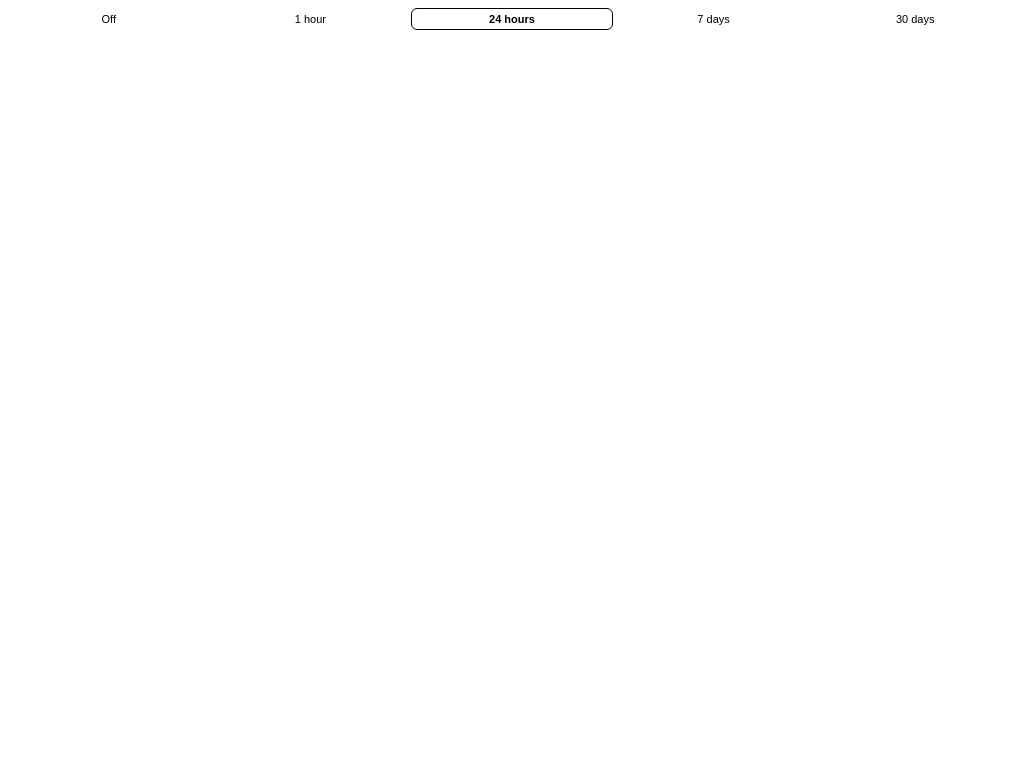
Test: MessageExpirationEditor › requires an explicit refresh after a conflict instead of reusing the confirmation
This screenshot has width=1024, height=768.
Click the button "1 hour". click: x=310, y=19
box: [210,8,411,30]
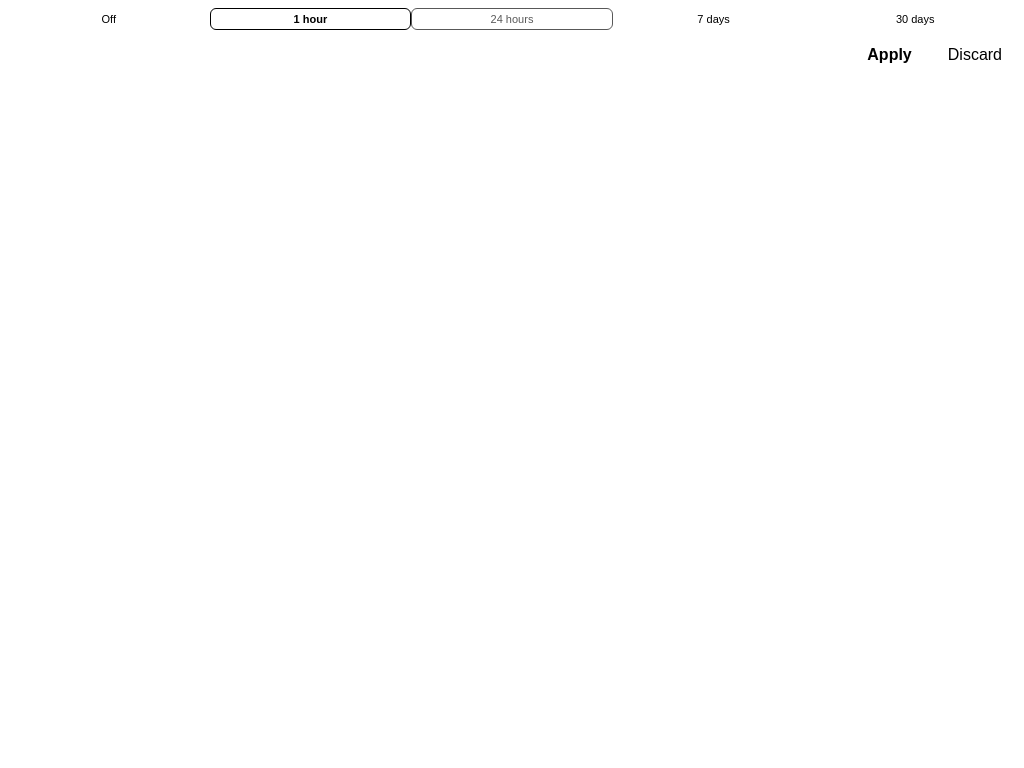
Click the button "Apply". click: x=890, y=55
box: [853,40,926,70]
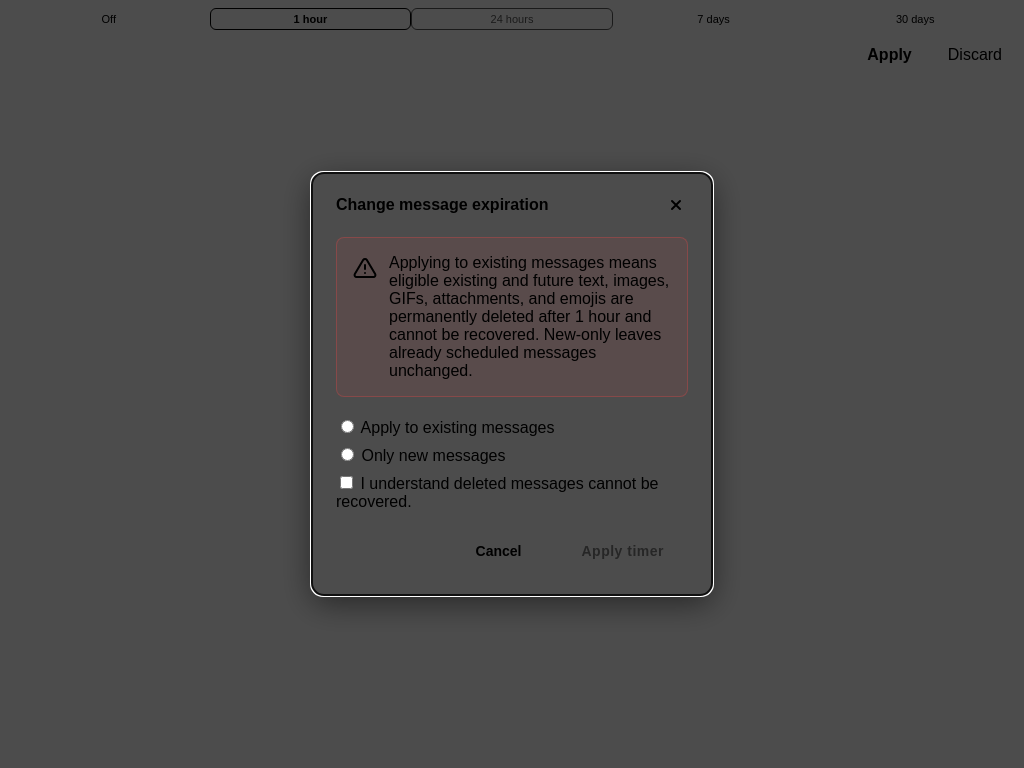
Click the radio button labelled "Only new messages". click: x=348, y=454
box: [341,448,354,461]
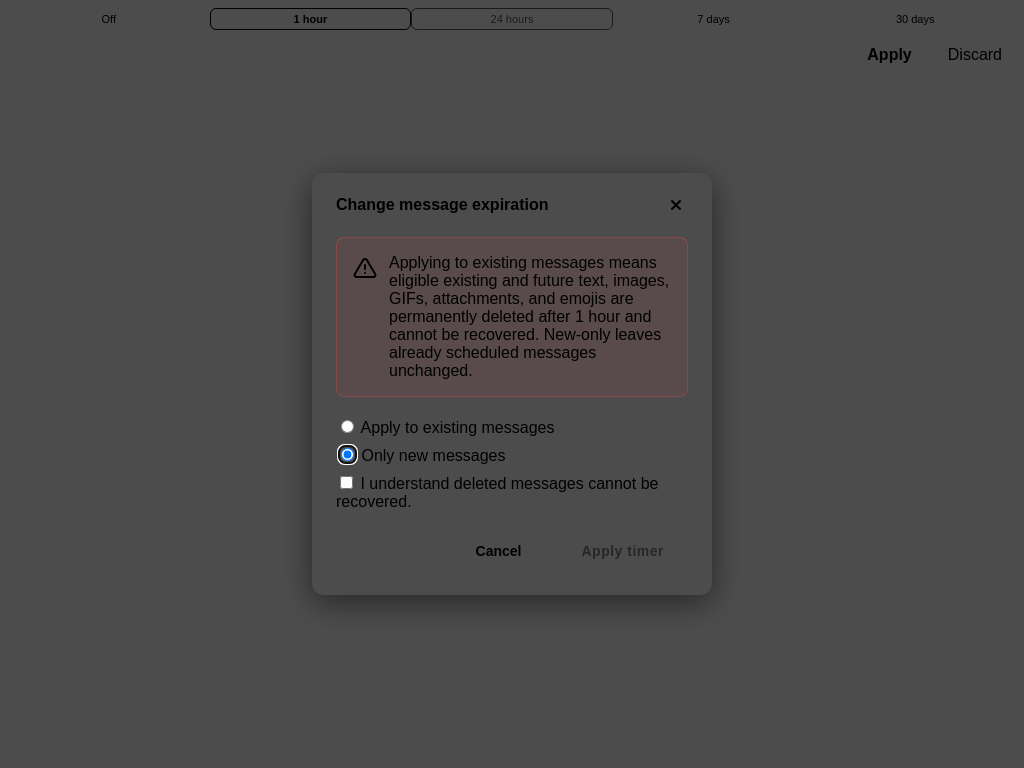
Click the checkbox labelled "I understand deleted messages cannot be recovered.". click: x=346, y=482
box: [340,476,353,489]
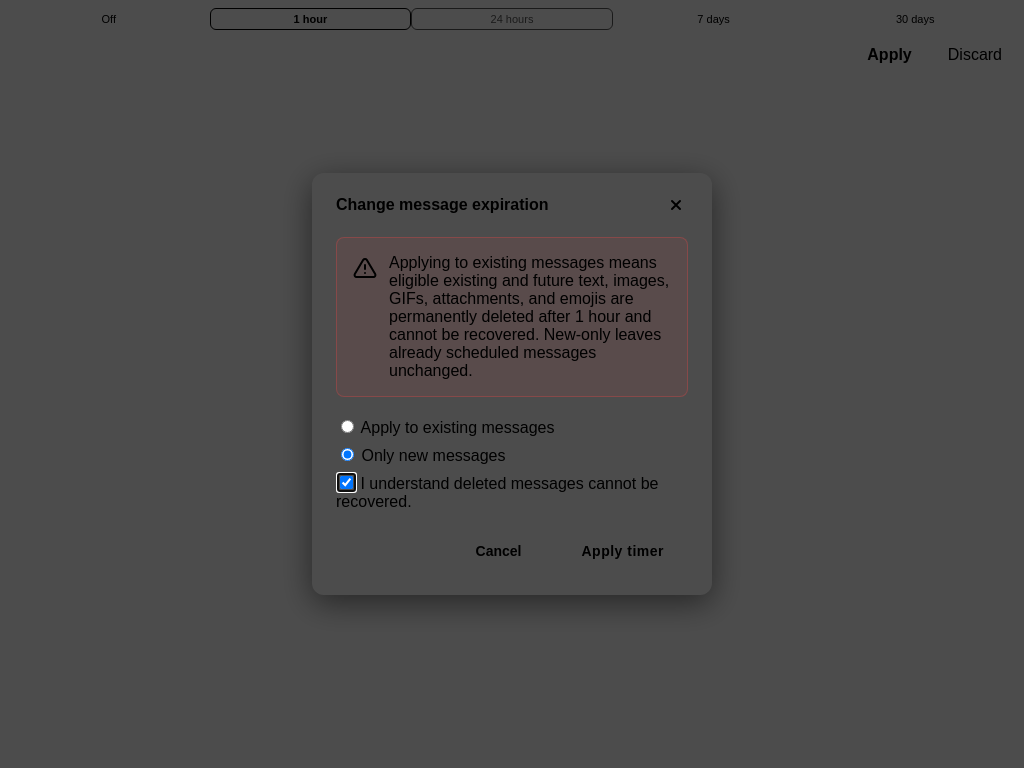
Click the button "Apply timer". click: x=623, y=551
box: [558,531,688,571]
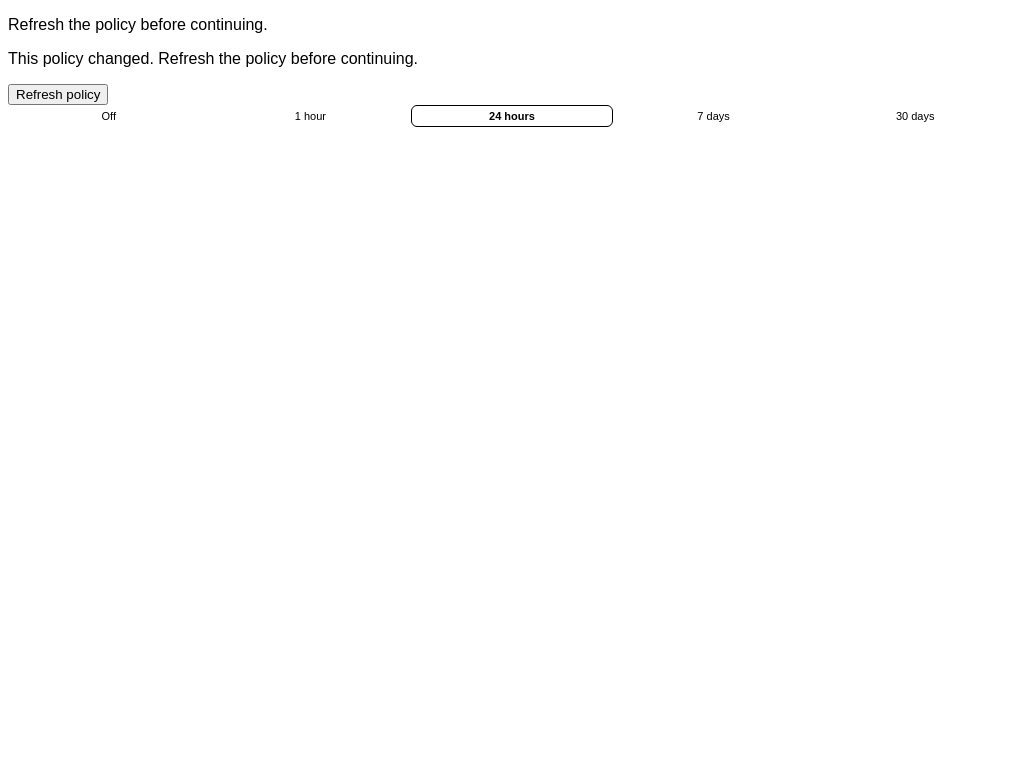
Expected: the message reads "This policy changed. Refresh the policy before continuing.", [8,50,418,67]
Expected: the button "Refresh policy" is shown, [8,84,108,105]
